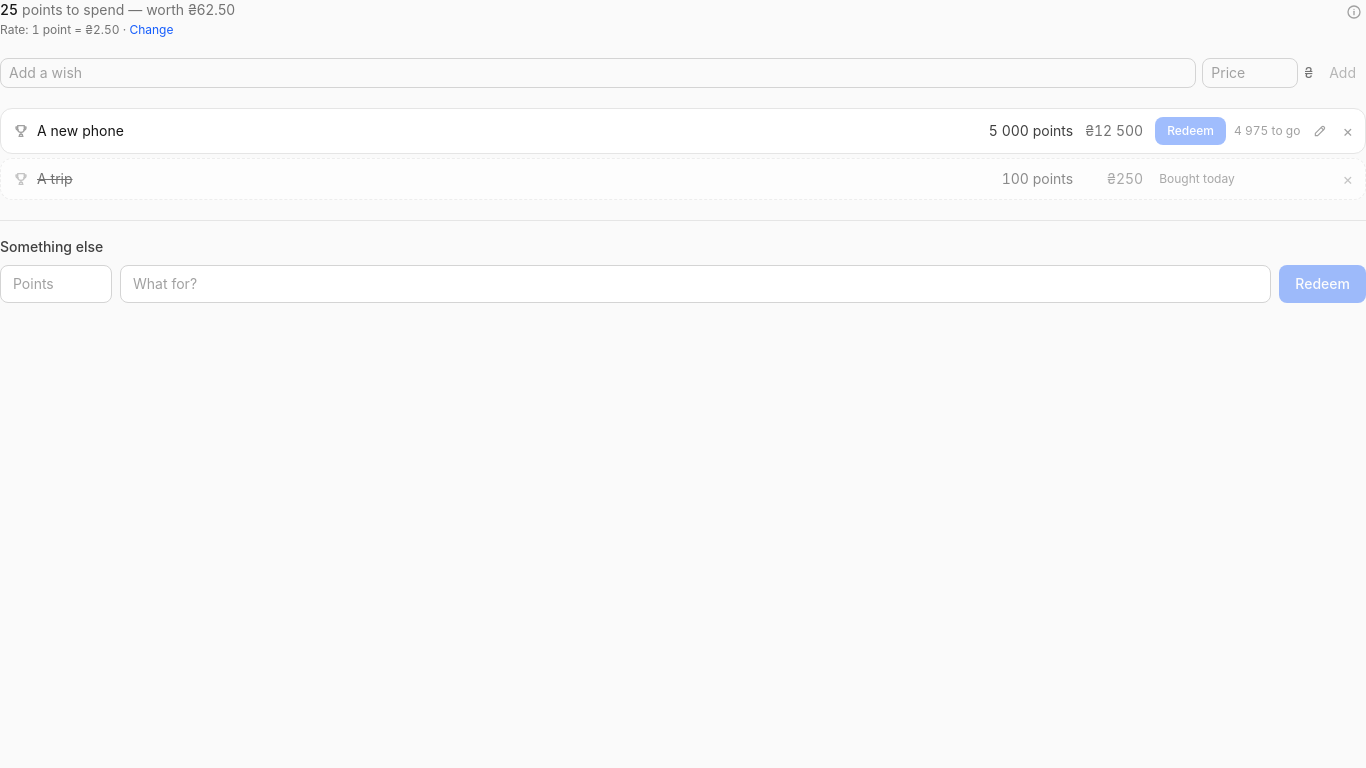
Test case: the two lists (RWD-40) › says what each list is for
Click the button named "About Wishlist": click(1354, 12) [1342,0,1365,24]
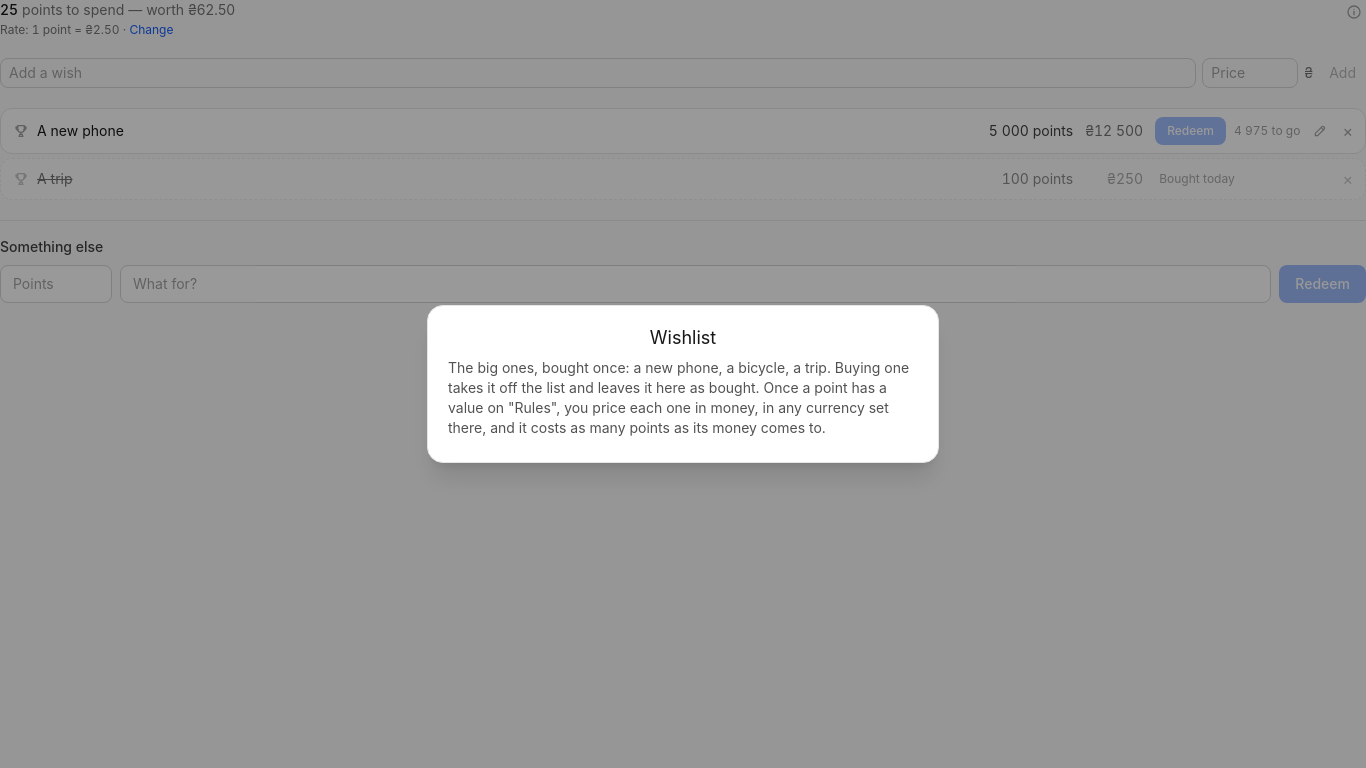
Check: the text "The big ones, bought once" is shown, box [448,359,909,436]
